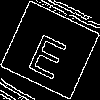E: (25, 24, 74, 81)
